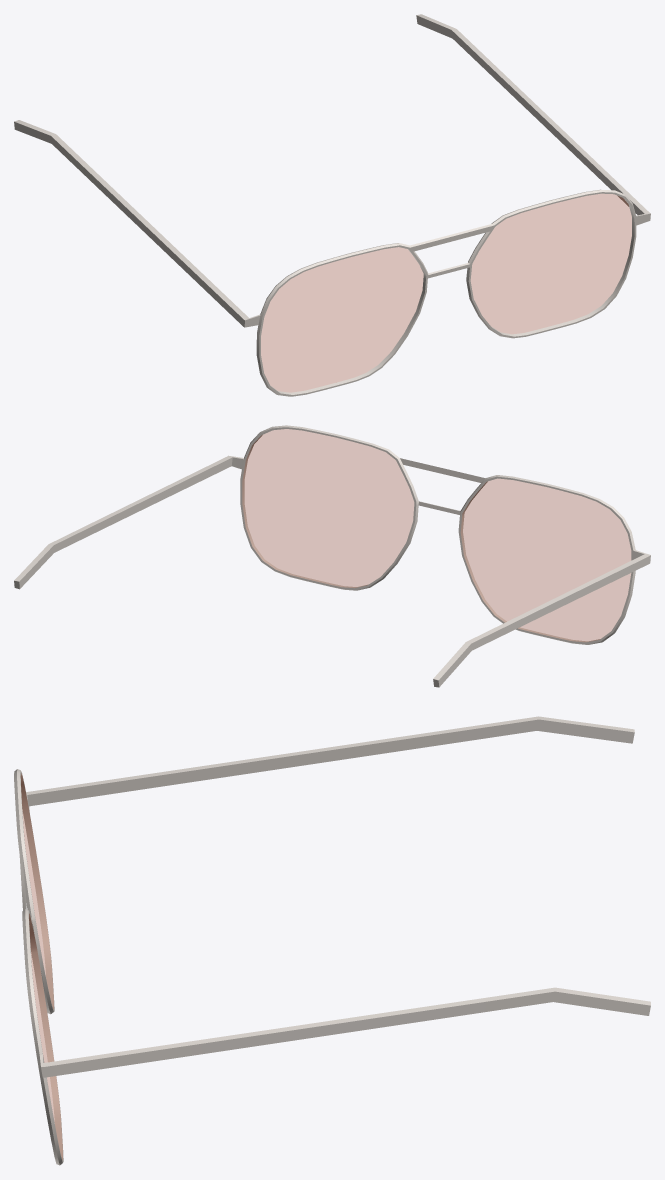
Rendered from eyewear-glasses-002-056c54a4.glb.
The picture shows the model from 3 angles, top to bottom: view 1: azimuth 30°, elevation 25°; view 2: azimuth 150°, elevation 25°; view 3: azimuth 270°, elevation 25°; orthographic projection. The views are drawn at different scales.
Visible parts, largest first — view 1: Geo_Male_Black_Glasses.004; view 2: Geo_Male_Black_Glasses.004; view 3: Geo_Male_Black_Glasses.004.
Part boxes in pixels (<box>): Geo_Male_Black_Glasses.004: <box>14,14,650,396</box>; Geo_Male_Black_Glasses.004: <box>14,425,650,687</box>; Geo_Male_Black_Glasses.004: <box>14,716,650,1165</box>.
Bounding box in the file's own units: 1.45 × 0.4941 × 1.37.
